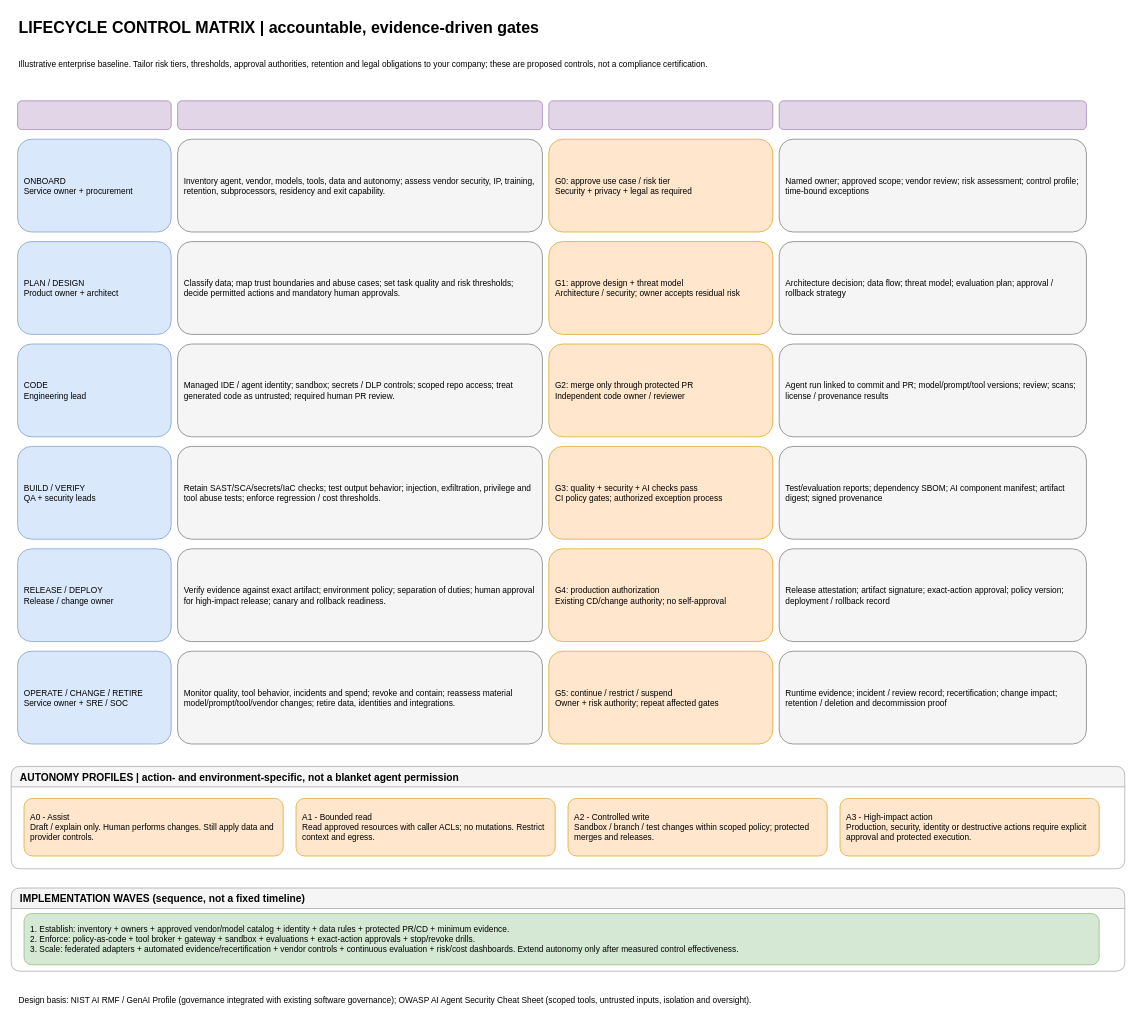
This 1136x1027 diagram has some shape labels left out. The shapes that lost their labels are listed below. From the top down, each one's centre as x and y in pixels, then its label:
pixel 94 115: Stage / accountable owner
pixel 359 115: AI-specific controls
pixel 660 115: Gate / decision authority
pixel 932 115: Evidence added to existing SDLC
